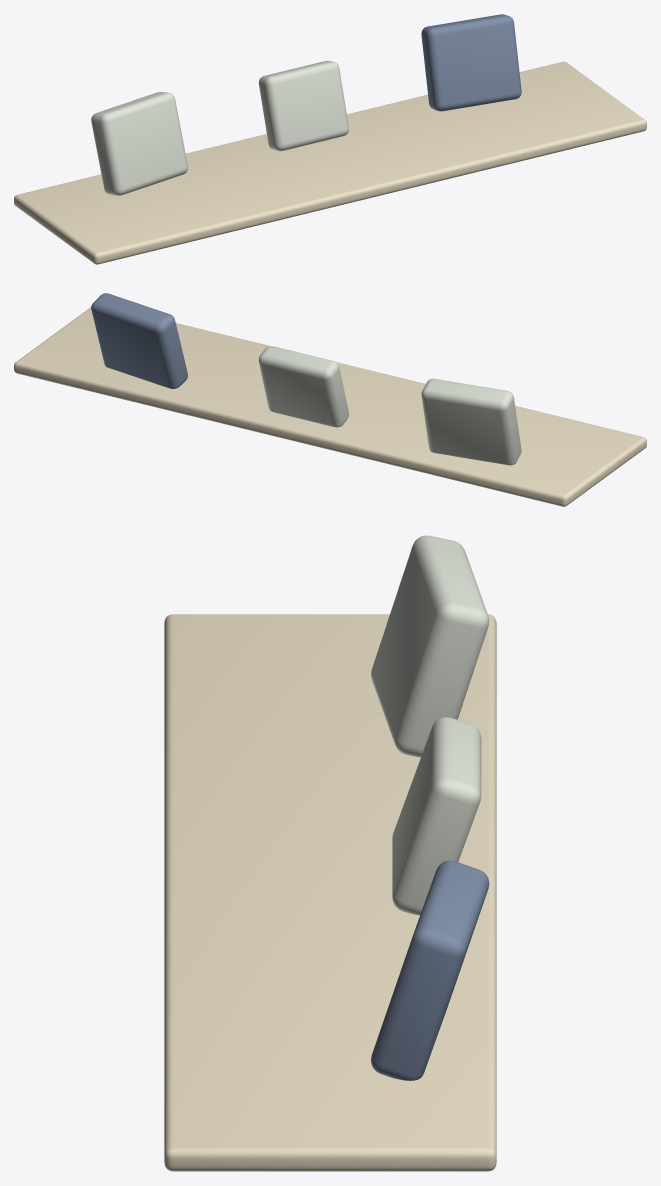
The model's file is sg_bay_cushion.glb.
The picture shows the model from 3 angles, top to bottom: view 1: azimuth 30°, elevation 25°; view 2: azimuth 150°, elevation 25°; view 3: azimuth 270°, elevation 25°; orthographic projection. The views are drawn at different scales.
Visible parts, largest first — view 1: pad, c2, c1, c3; view 2: pad, c1, c2, c3; view 3: pad, c1, c2, c3.
Part boxes in pixels (bbox=[...]): pad: bbox=[14, 61, 646, 264]; c2: bbox=[421, 14, 521, 111]; c1: bbox=[91, 92, 187, 195]; c3: bbox=[258, 60, 348, 151]; pad: bbox=[14, 307, 646, 506]; c1: bbox=[421, 378, 521, 465]; c2: bbox=[91, 293, 187, 388]; c3: bbox=[258, 346, 348, 427]; pad: bbox=[164, 614, 496, 1171]; c1: bbox=[371, 535, 489, 757]; c2: bbox=[371, 860, 489, 1080]; c3: bbox=[392, 717, 481, 915].
Size of the model in its own units: 3 by 0.4465 by 0.78.
